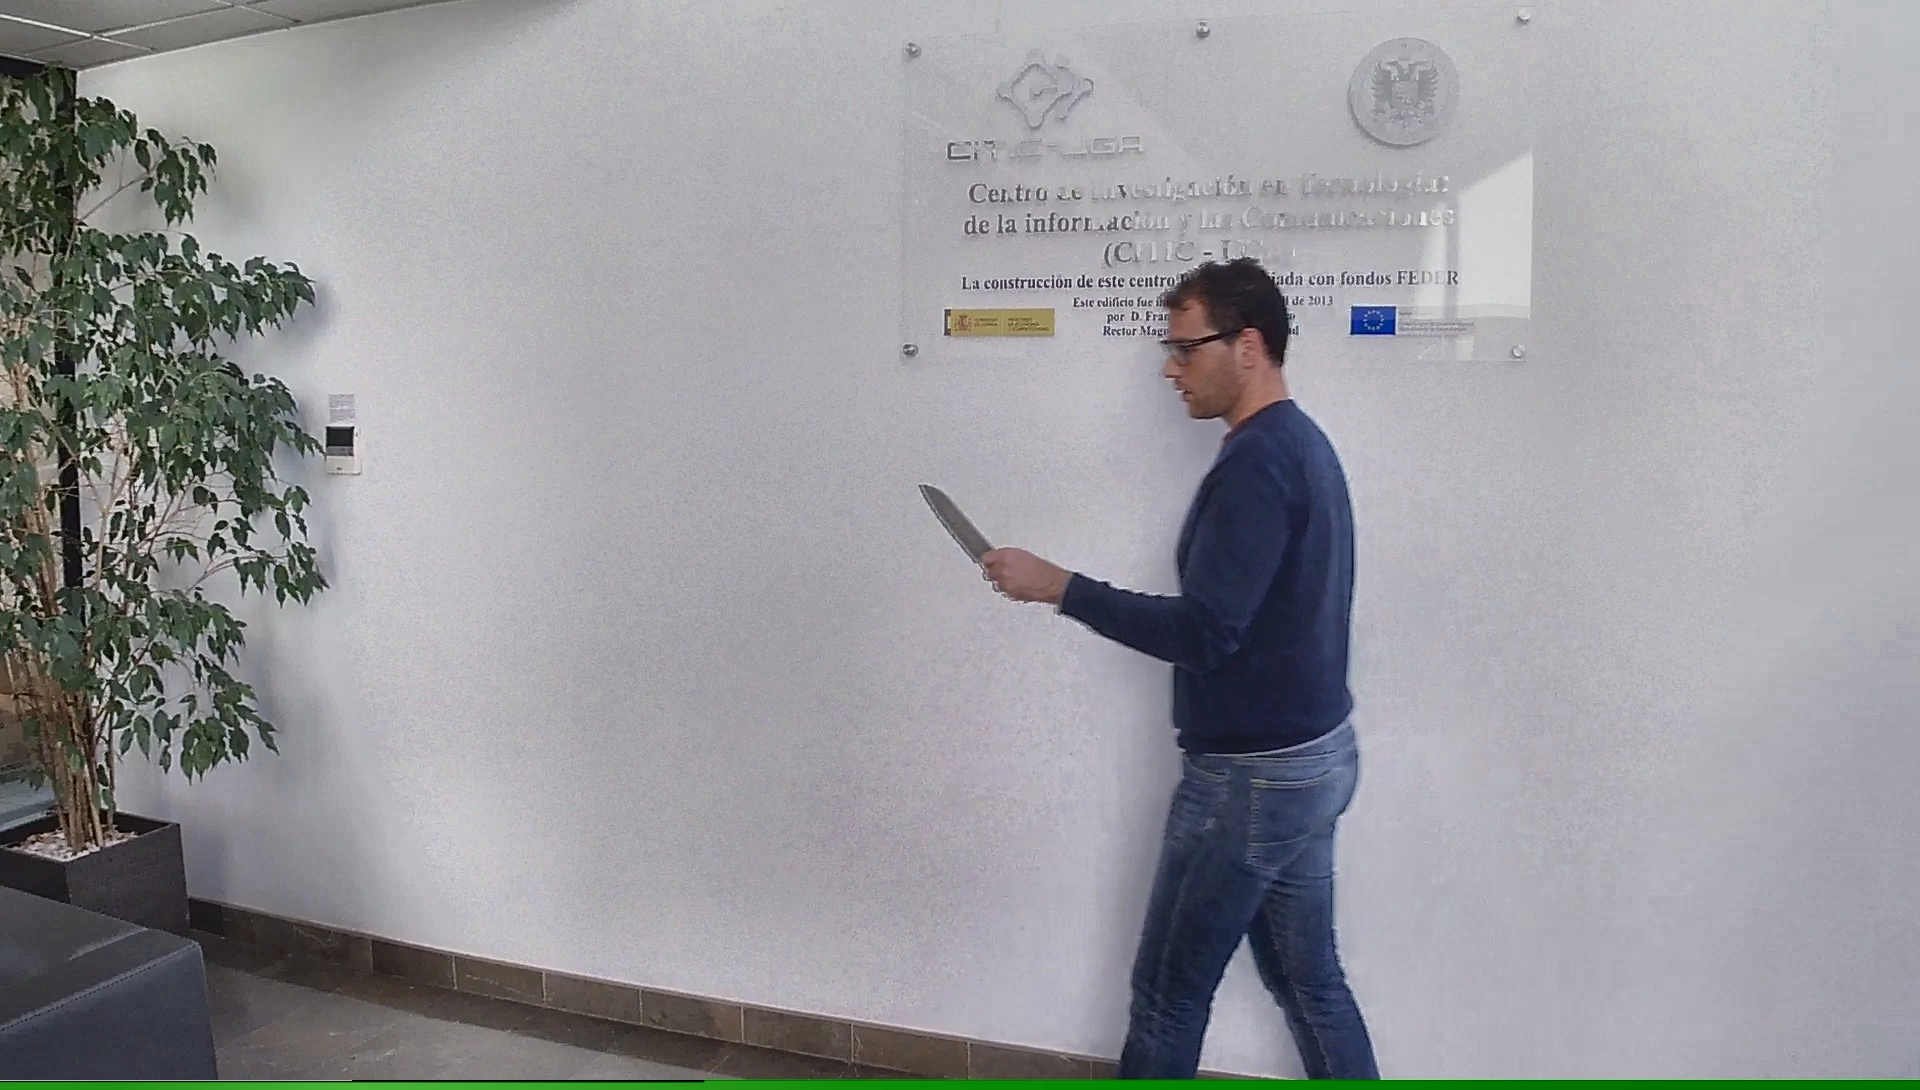knife: (911, 473, 1025, 594)
